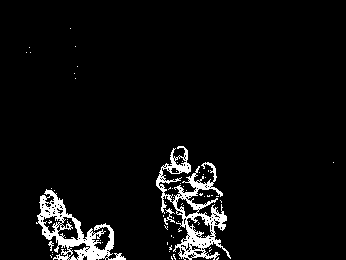person: (173, 161, 231, 231), (155, 139, 192, 233), (171, 213, 231, 260)
